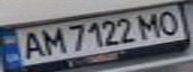1: (84, 19, 103, 48)
2: (115, 15, 139, 44), (100, 17, 121, 47)
7: (63, 21, 87, 52)
A: (15, 29, 48, 61)
M: (133, 10, 166, 39), (36, 25, 66, 55)
O: (151, 7, 184, 36)
